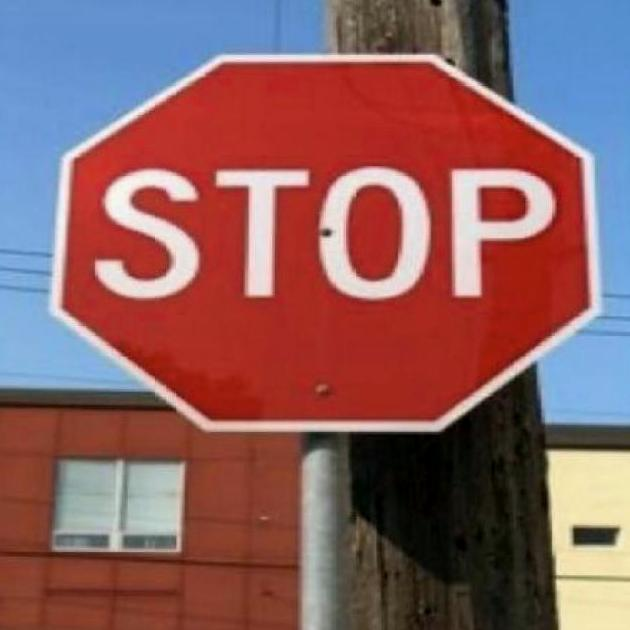stop_sign: (44, 49, 599, 432)
